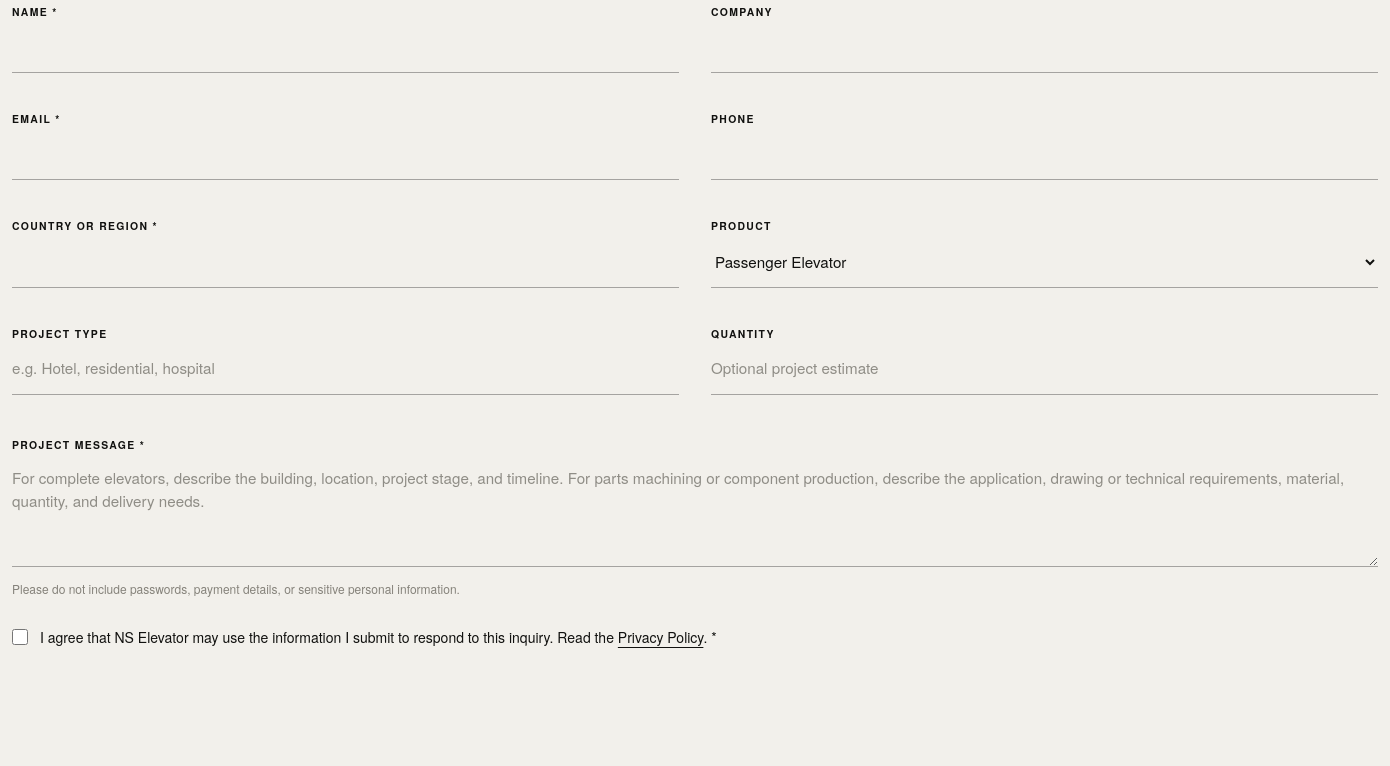
Test: InquiryForm › renders an accessible success state after an accepted submission
Type "Ada Builder" into the field labelled "Name *" at (346, 48), box 12,22 -> 679,73
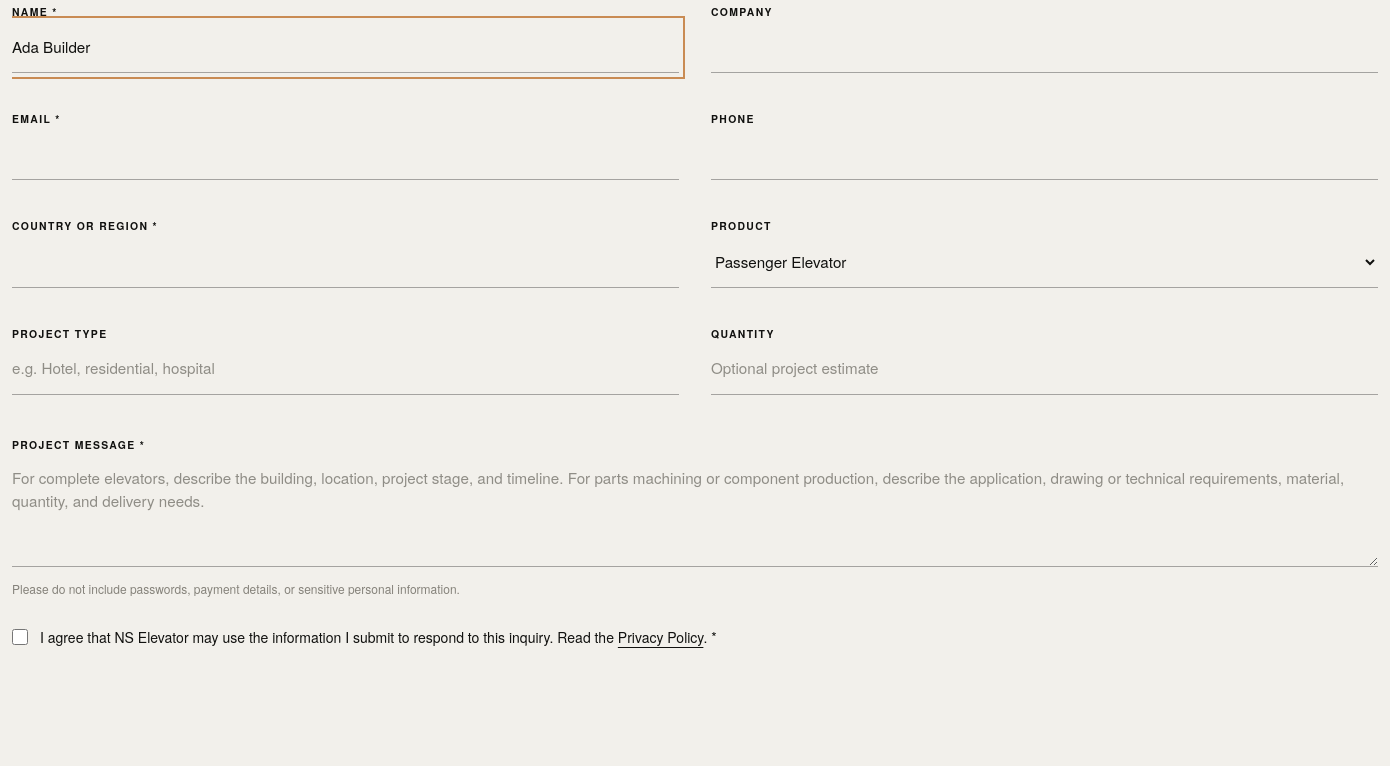
Type "ada@example.com" into the field labelled "Email *" at (346, 155), box 12,129 -> 679,180
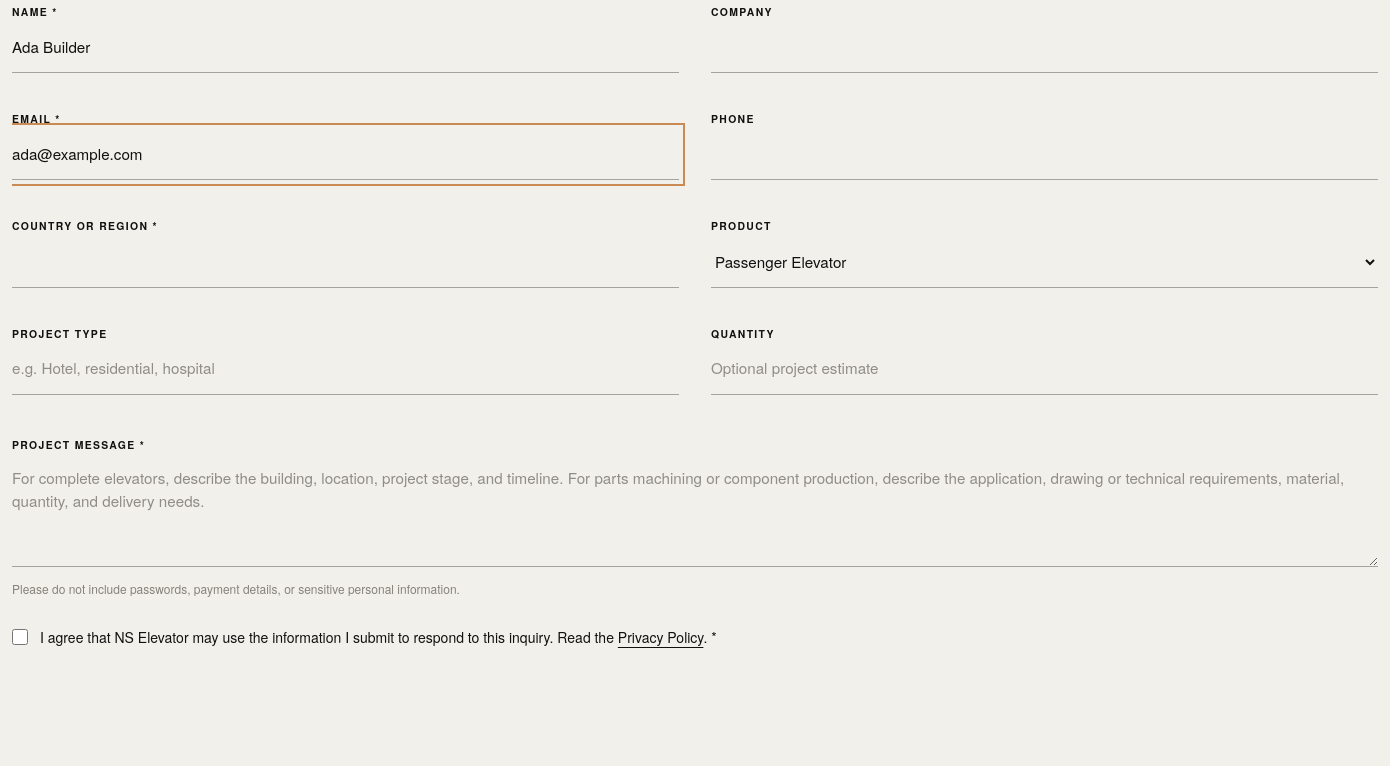
Type "Canada" into the field labelled "Country or region *" at (346, 262), box 12,236 -> 679,288
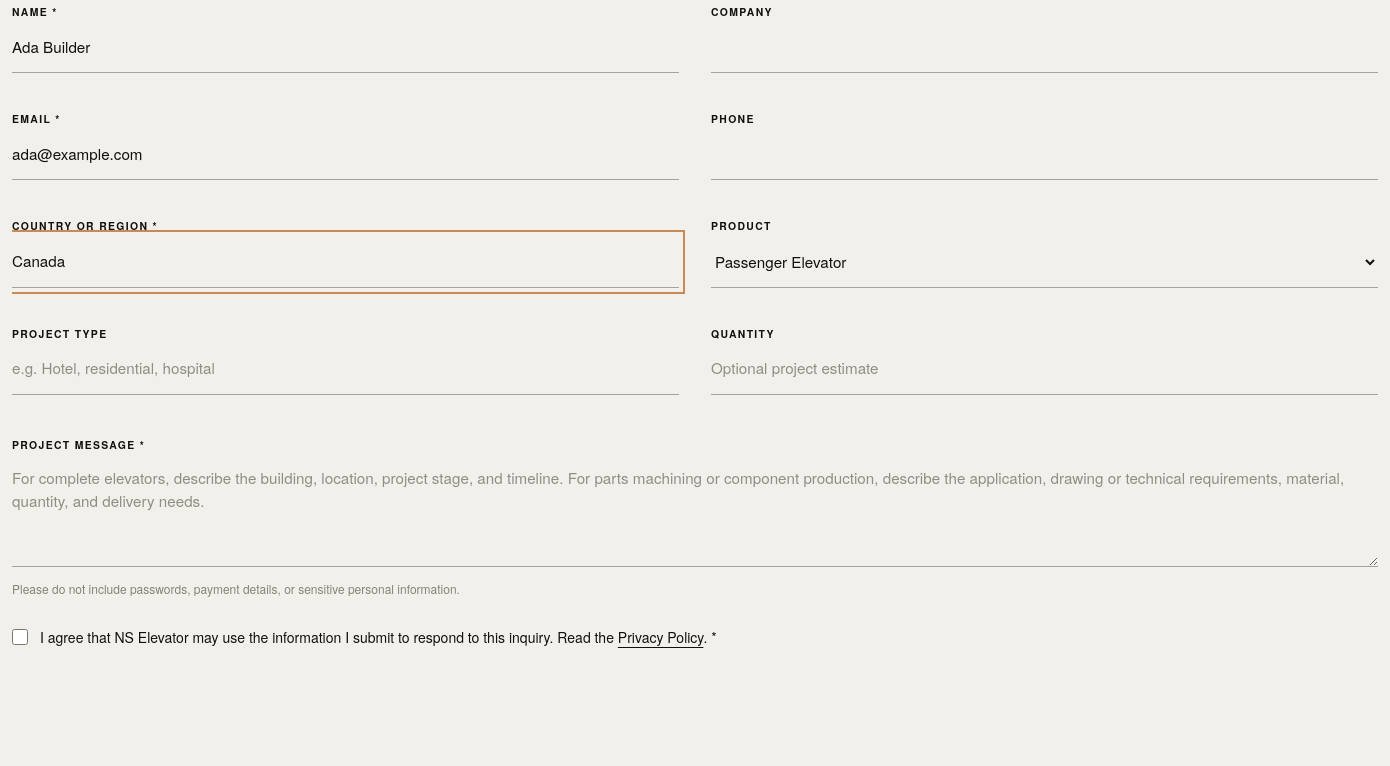
Type "A residential tower needs early product guidance." into the text box labelled "Project message" at (695, 511), box 12,455 -> 1378,567
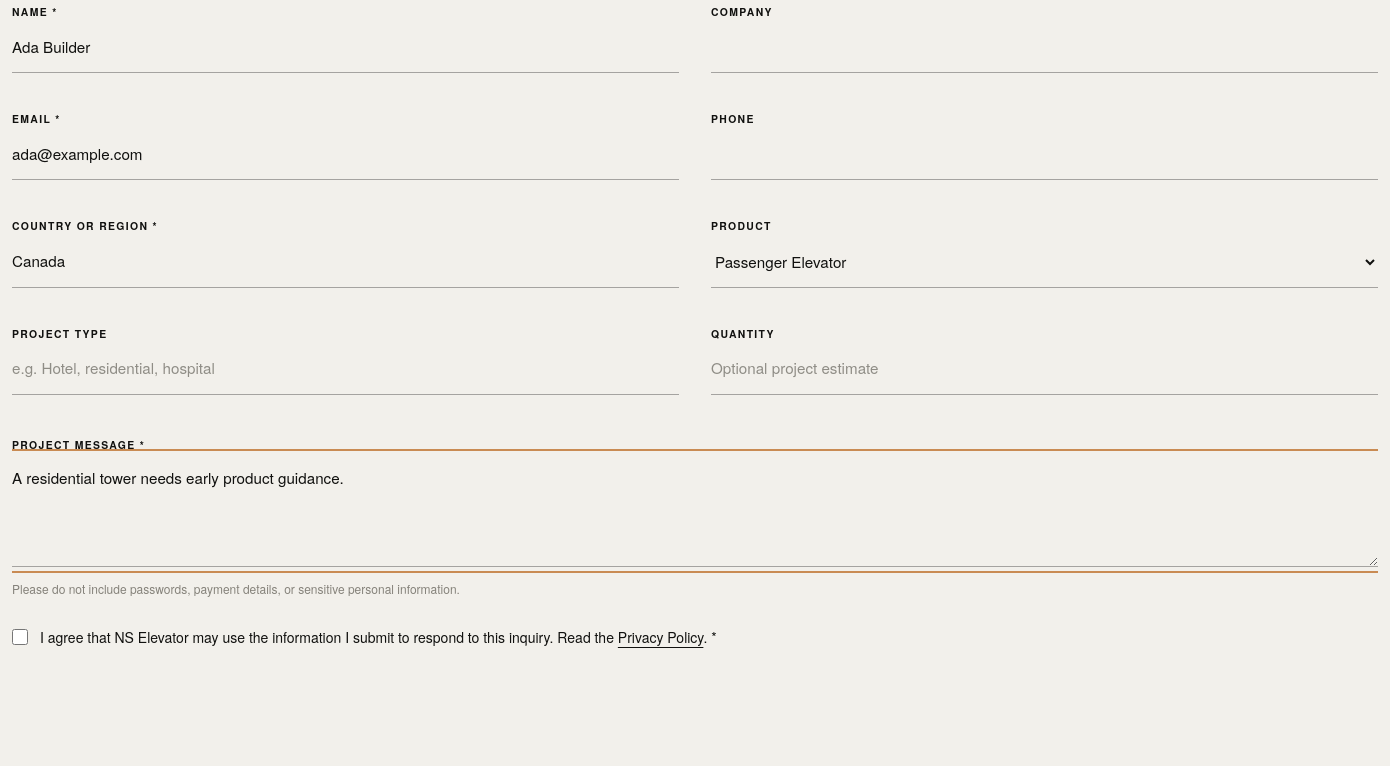
Click the checkbox labelled "I agree" at (20, 637), box 12,629 -> 28,645
(page scrolled)
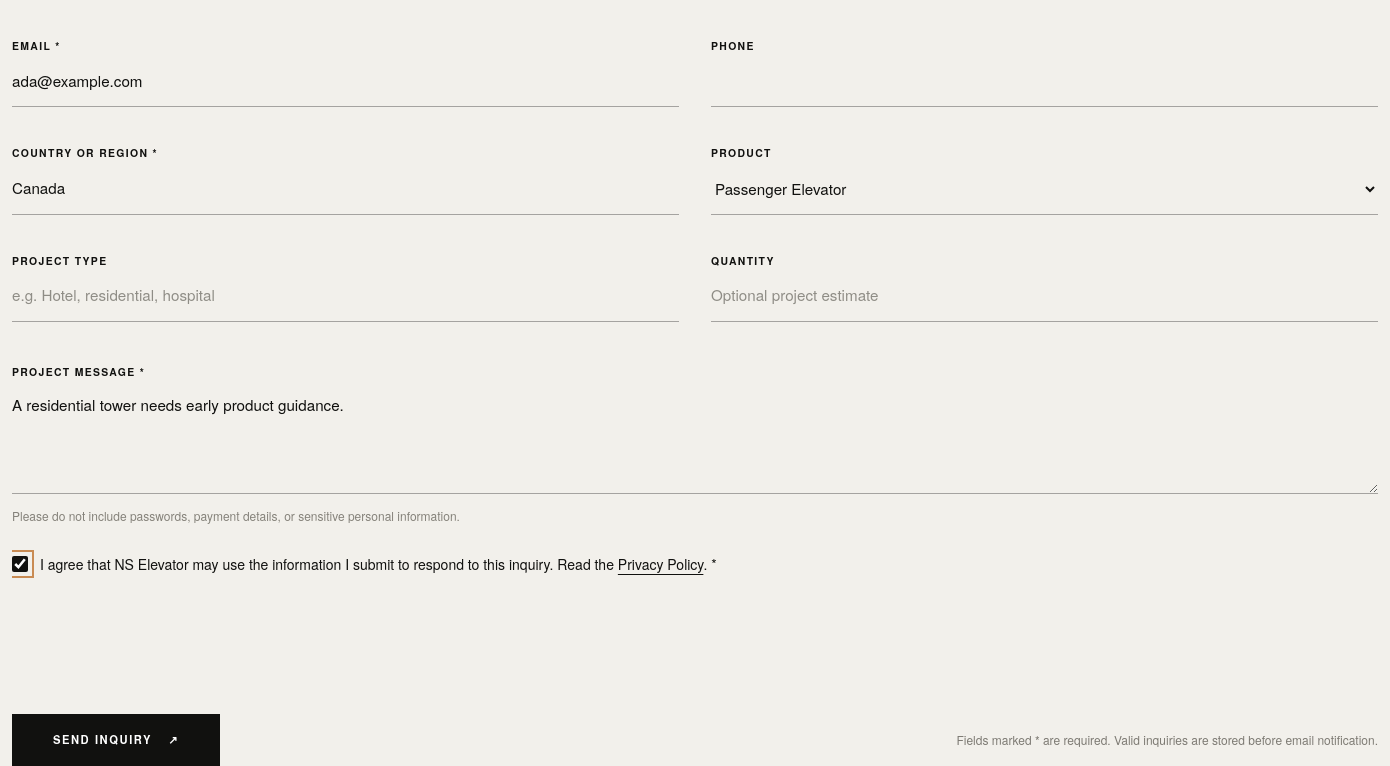
Click the button "Send inquiry ↗" at (116, 740), box 12,714 -> 220,765
(page scrolled)
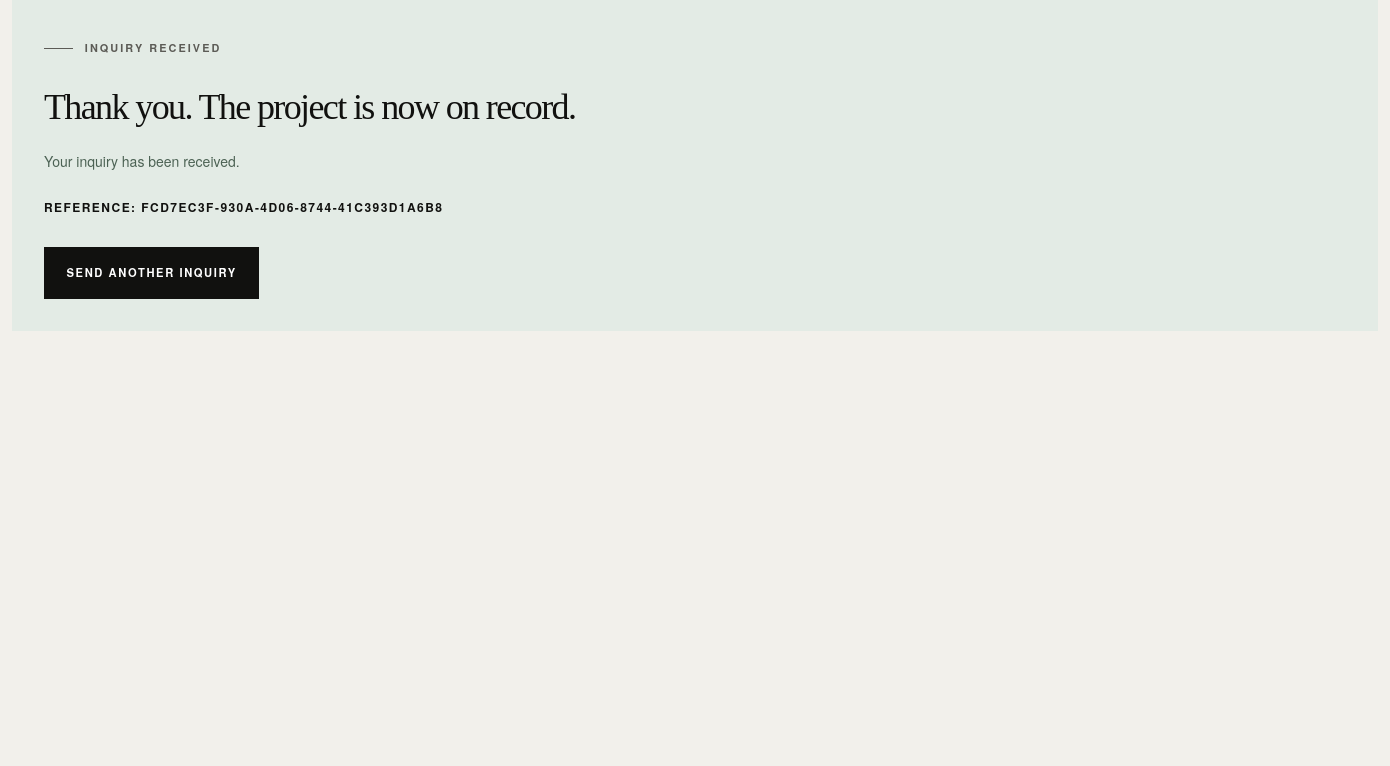
Expected: the message shows "The project is now on record", 44,87 -> 575,127
